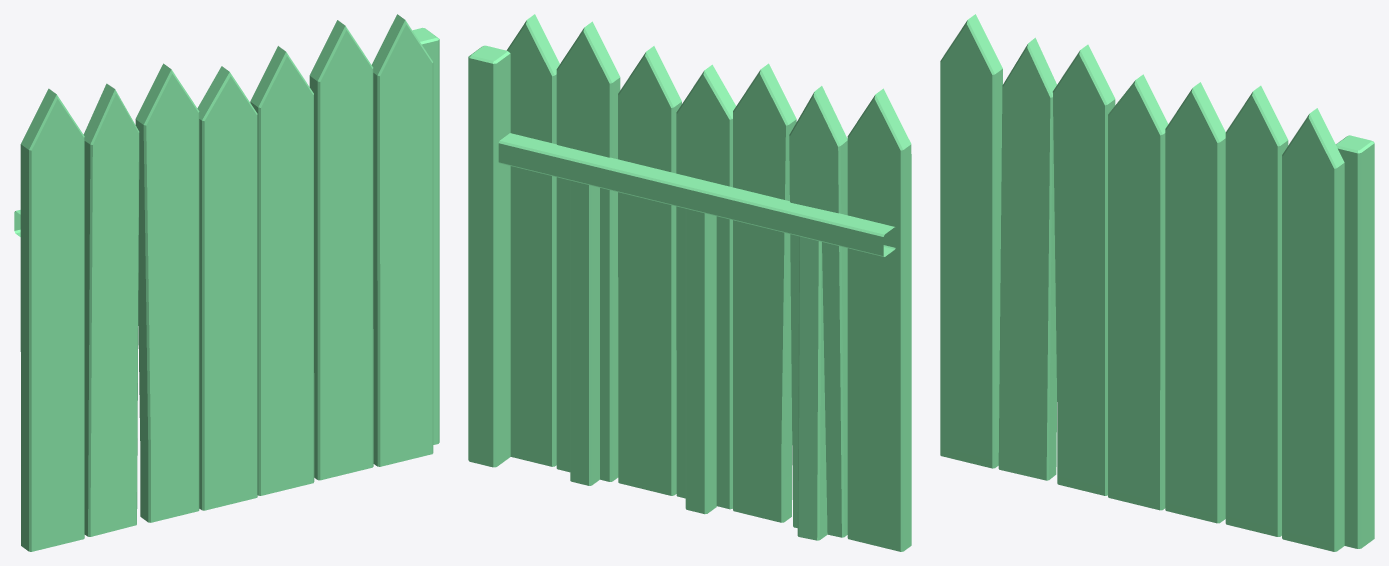
File: Wooden_Fence_1.FBX
3 views of the same model, side by side, from view 1: azimuth 30°, elevation 25°; view 2: azimuth 150°, elevation 25°; view 3: azimuth 330°, elevation 25° (orthographic).
Parts seen in each view (by area): view 1: Wooden_Fence_1; view 2: Wooden_Fence_1; view 3: Wooden_Fence_1.
Boxes of the visible parts, x1=… form: Wooden_Fence_1: x1=14, y1=14, x2=439, y2=551; Wooden_Fence_1: x1=468, y1=14, x2=911, y2=551; Wooden_Fence_1: x1=940, y1=14, x2=1374, y2=551.
Size of the model in its own units: 248 by 255 by 26.94.
